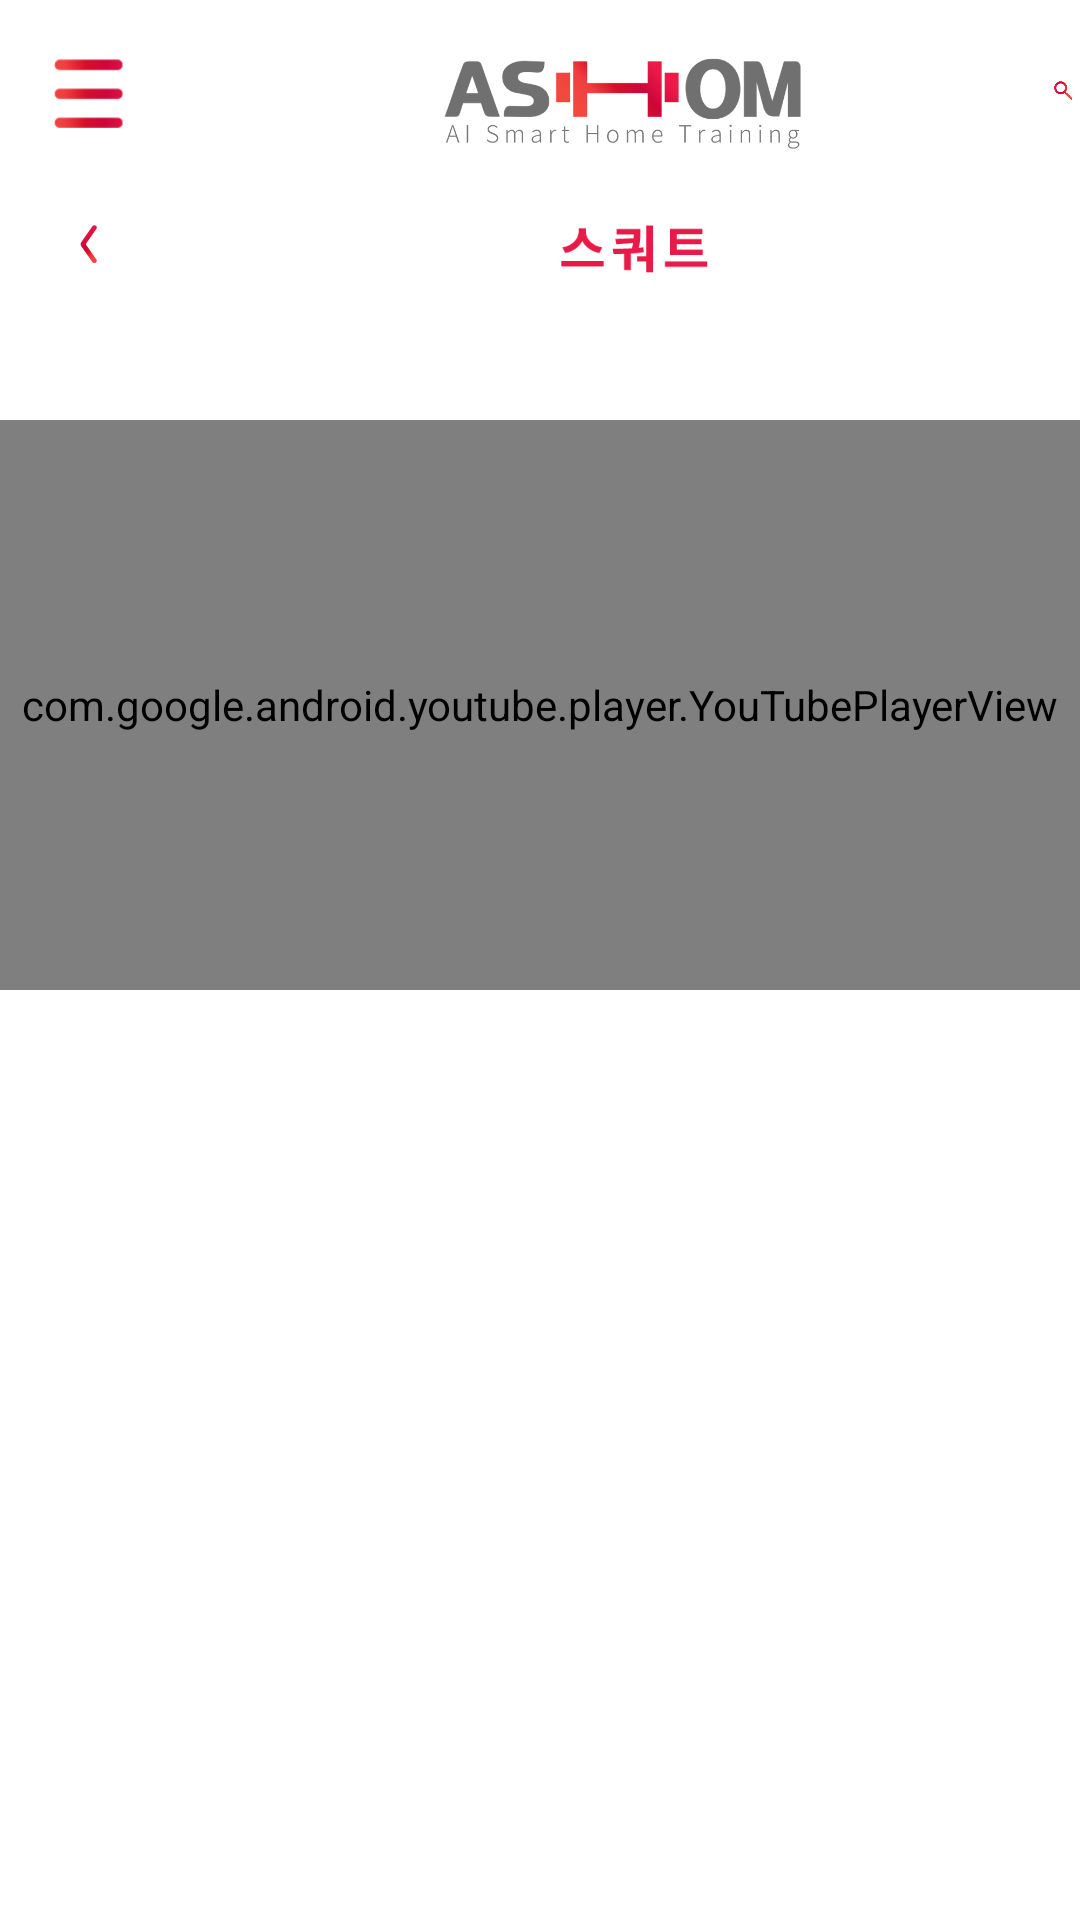

Where icons sit on this 1080px x 1920px app screen, as bbox=[x1, y1, x2, y2]:
backicon: bbox=[80, 225, 97, 263]
triple: bbox=[54, 59, 123, 128]
